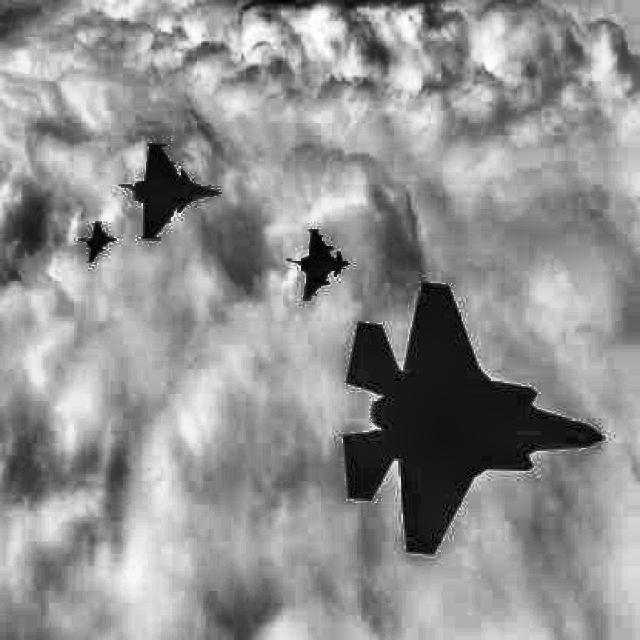EF2000: (285, 229, 350, 300)
F35: (343, 282, 605, 556)
Rafale: (119, 143, 221, 240), (79, 222, 116, 262)
